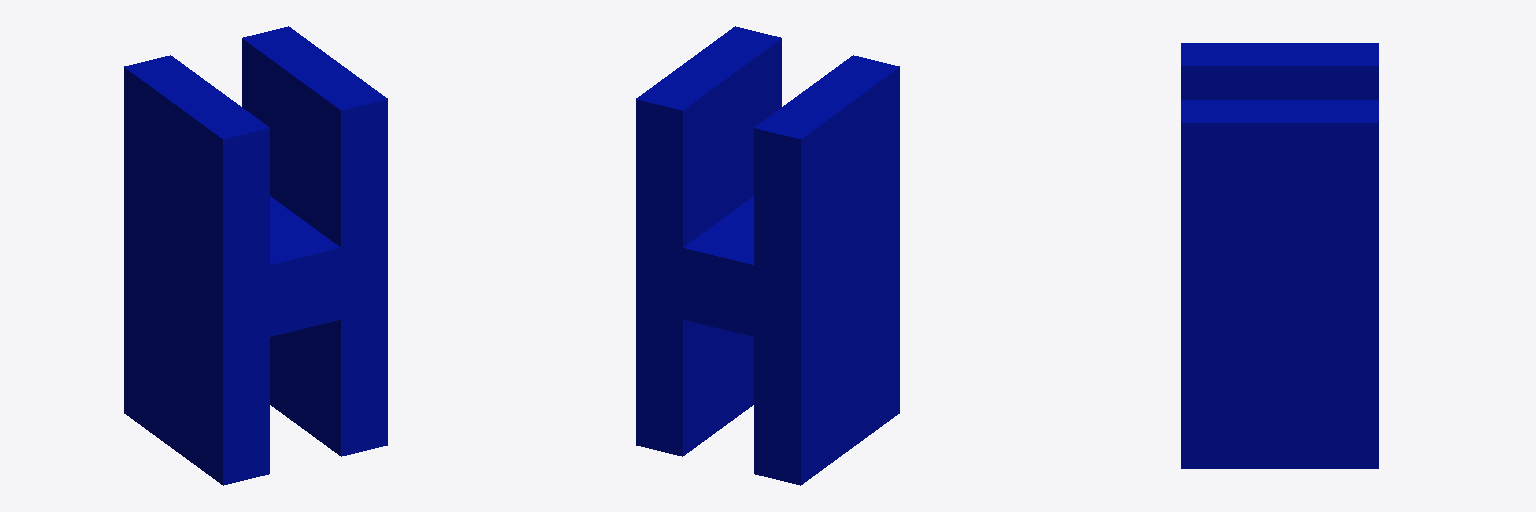
File: support.obj
3 views of the same model, side by side, from view 1: azimuth 30°, elevation 25°; view 2: azimuth 150°, elevation 25°; view 3: azimuth 270°, elevation 25° (orthographic).
Parts seen in each view (by area): view 1: support_Cube.001; view 2: support_Cube.001; view 3: support_Cube.001.
Boxes of the visible parts, x1,y1,x2,y2 form: support_Cube.001: [124, 26, 387, 485]; support_Cube.001: [636, 26, 899, 485]; support_Cube.001: [1181, 43, 1378, 468].
Size of the model in its own units: 0.24 by 0.48 by 0.25.